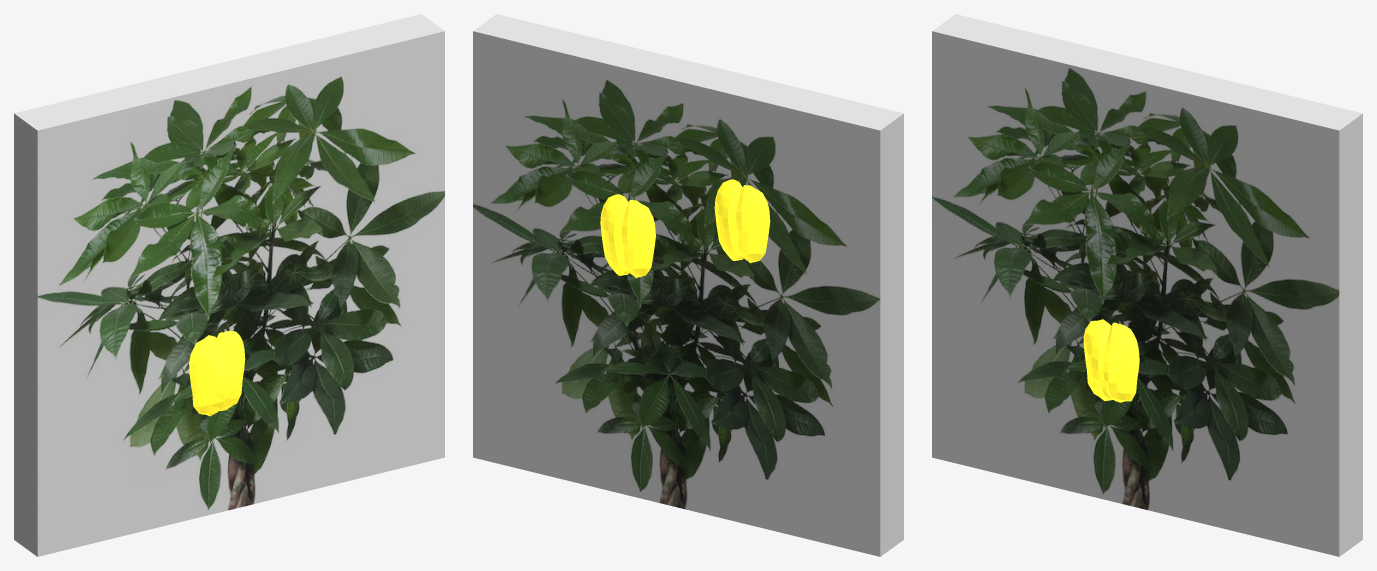
Rendered from pepper_3.dae.
The picture shows the model from 3 angles, left to right: view 1: azimuth 30°, elevation 25°; view 2: azimuth 150°, elevation 25°; view 3: azimuth 330°, elevation 25°; orthographic projection.
Visible parts, largest first — view 1: Cube, Sphere.003; view 2: Cube, Sphere.002, Sphere.001; view 3: Cube, Sphere.003.
Boxes of the visible parts, bbox=[...] form: Cube: bbox=[14, 14, 444, 556]; Sphere.003: bbox=[189, 330, 245, 416]; Cube: bbox=[473, 14, 903, 556]; Sphere.002: bbox=[714, 179, 770, 263]; Sphere.001: bbox=[600, 194, 655, 277]; Cube: bbox=[932, 14, 1362, 556]; Sphere.003: bbox=[1083, 319, 1139, 402].
Bounding box in the file's own units: 1 × 0.1795 × 1.
2 materials, 1 textured.
